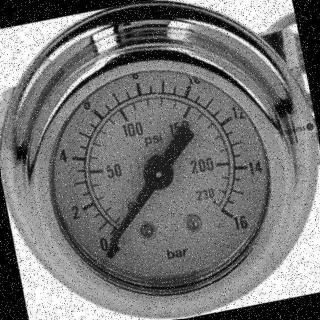gauge: (0, 0, 320, 320), (140, 152, 177, 192), (95, 226, 128, 260), (215, 202, 249, 232), (106, 227, 125, 247)
